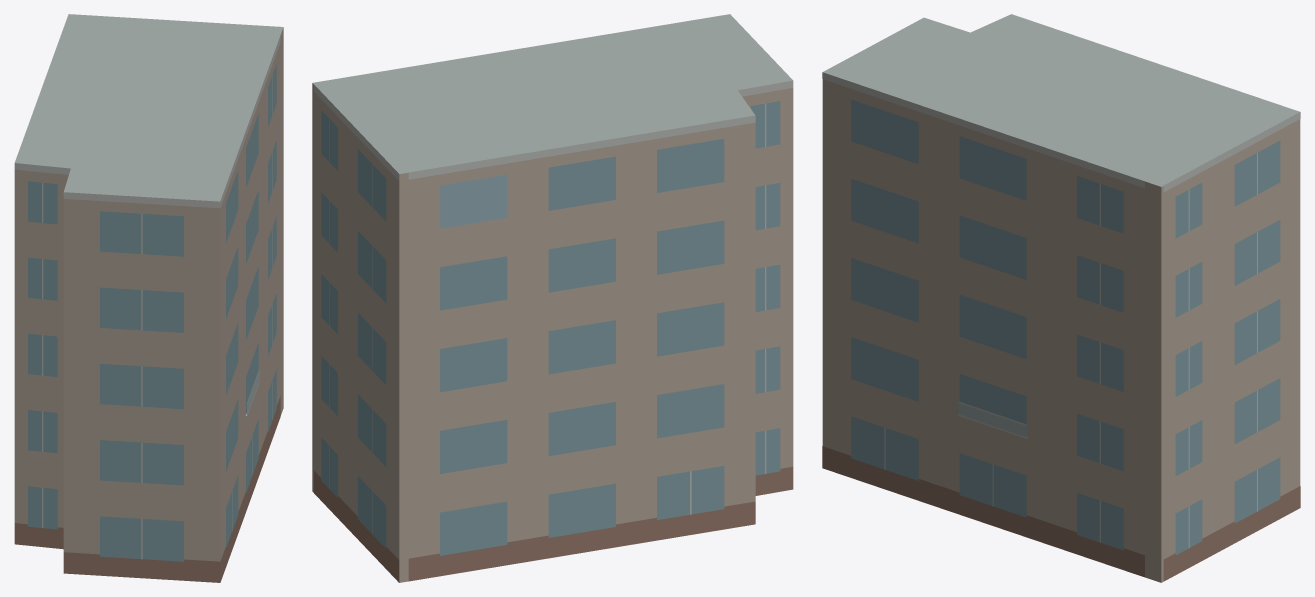
Rendered from survey-upis-32780018.glb.
3 renders of one model, left to right at view 1: azimuth 30°, elevation 25°; view 2: azimuth 150°, elevation 25°; view 3: azimuth 270°, elevation 25°, orthographic. The views are drawn at different scales.
Visible parts, largest first — view 1: survey-upis-32780018.tmp; view 2: survey-upis-32780018.tmp; view 3: survey-upis-32780018.tmp.
Part boxes in pixels (x1,y1,x2,y2): survey-upis-32780018.tmp: (14,14,283,582); survey-upis-32780018.tmp: (312,14,793,582); survey-upis-32780018.tmp: (822,14,1300,582).
Size of the model in its own units: 13.07 by 13.95 by 15.27.
